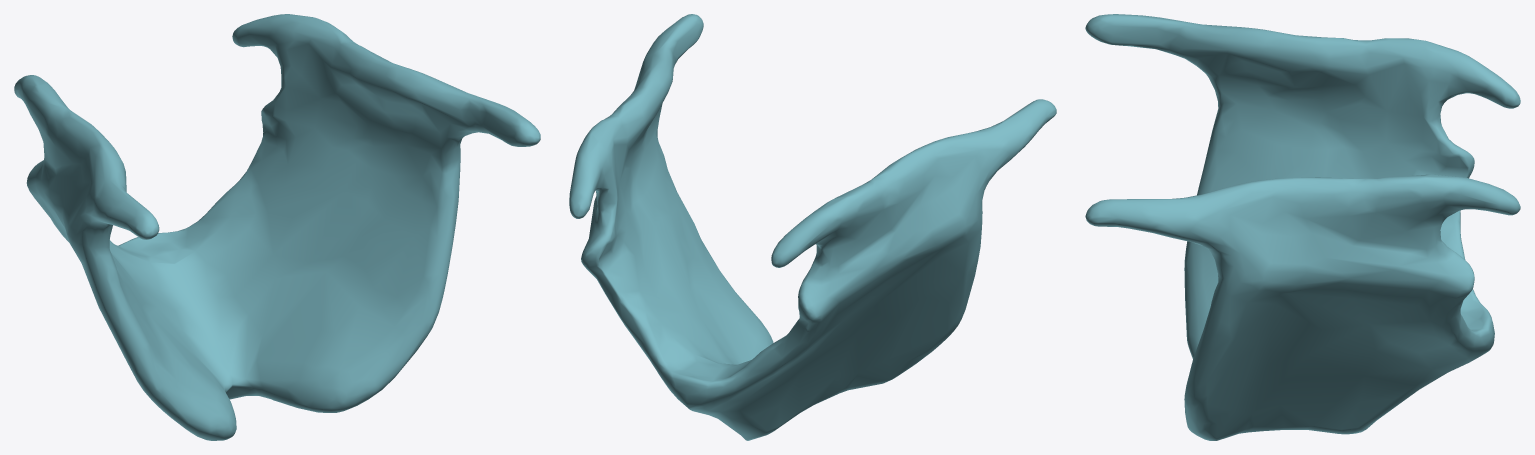
3 views of the same model, side by side, from view 1: azimuth 30°, elevation 25°; view 2: azimuth 150°, elevation 25°; view 3: azimuth 270°, elevation 25° (orthographic). The views are drawn at different scales.
Visible parts, largest first — view 1: 甲状软骨; view 2: 甲状软骨; view 3: 甲状软骨.
Part boxes in pixels (box(x1,y1,x2,y2)): 甲状软骨: box(14, 14, 540, 440); 甲状软骨: box(569, 14, 1056, 440); 甲状软骨: box(1085, 14, 1520, 440).
Size of the model in its own units: 0.0607 by 0.0464 by 0.0557.
